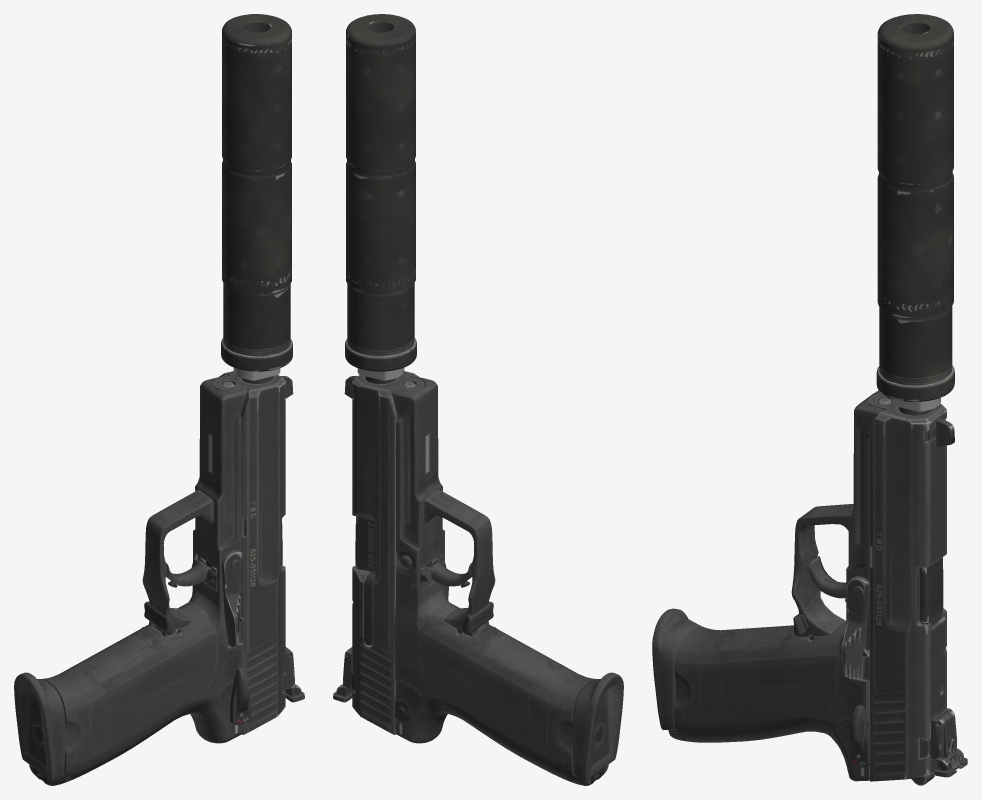
The model's file is usp.obj.
3 renders of one model, left to right at view 1: azimuth 30°, elevation 25°; view 2: azimuth 150°, elevation 25°; view 3: azimuth 330°, elevation 25°, orthographic. The views are drawn at different scales.
Visible parts, largest first — view 1: Object_7; view 2: Object_7; view 3: Object_7.
Part boxes in pixels (x1,y1,x2,y2): Object_7: [14, 14, 304, 785]; Object_7: [333, 14, 623, 785]; Object_7: [652, 14, 967, 785].
Size of the model in its own units: 0.00438 by 0.0109 by 0.00117.
1 material, 1 textured.
